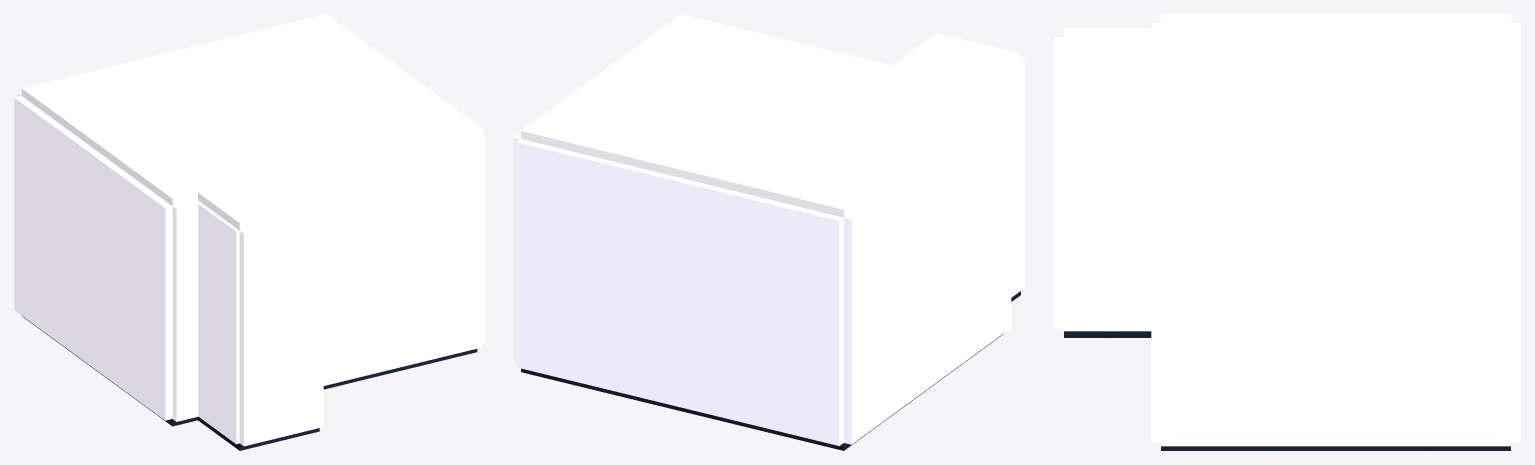
File: group-a-essential.glb
3 renders of one model, left to right at view 1: azimuth 30°, elevation 25°; view 2: azimuth 150°, elevation 25°; view 3: azimuth 270°, elevation 25°, orthographic. The views are drawn at different scales.
Visible parts, largest first — view 1: ceiling_main, wall_front_right, wall_left, wall_hallway_b, wall_hallway_l, wall_front_left, ceiling_hallway, floor_main, wall_right, floor_hallway; view 2: wall_rear, ceiling_main, wall_left, ceiling_hallway, wall_hallway_l, floor_main, wall_right; view 3: wall_right, ceiling_main, wall_hallway_r, ceiling_hallway, wall_rear, wall_front_right, wall_hallway_b, floor_main, floor_hallway.
Part boxes in pixels (x1,y1,x2,y2): ceiling_main: (21, 14, 477, 206); wall_front_right: (286, 132, 481, 385); wall_left: (14, 96, 172, 420); wall_hallway_b: (239, 211, 323, 446); wall_hallway_l: (194, 200, 239, 444); wall_front_left: (172, 201, 201, 421); ceiling_hallway: (198, 173, 319, 230); floor_main: (22, 316, 477, 426); wall_right: (477, 125, 484, 343); floor_hallway: (198, 416, 319, 450); wall_rear: (516, 139, 843, 445); ceiling_main: (521, 14, 1003, 217); wall_left: (844, 101, 1011, 444); ceiling_hallway: (892, 33, 1020, 87); wall_hallway_l: (985, 62, 1024, 297); floor_main: (521, 334, 1003, 450); wall_right: (513, 132, 520, 362); wall_right: (1161, 195, 1510, 446); ceiling_main: (1161, 14, 1510, 195); wall_hallway_r: (1064, 82, 1151, 331); ceiling_hallway: (1064, 28, 1160, 82); wall_rear: (1511, 22, 1520, 442); wall_front_right: (1151, 82, 1160, 442); wall_hallway_b: (1054, 37, 1063, 329); floor_main: (1161, 446, 1510, 450); floor_hallway: (1064, 331, 1151, 337).
Size of the model in its own units: 4.4 by 3 by 4.8.
Materials: 26 (4 with a texture image).
